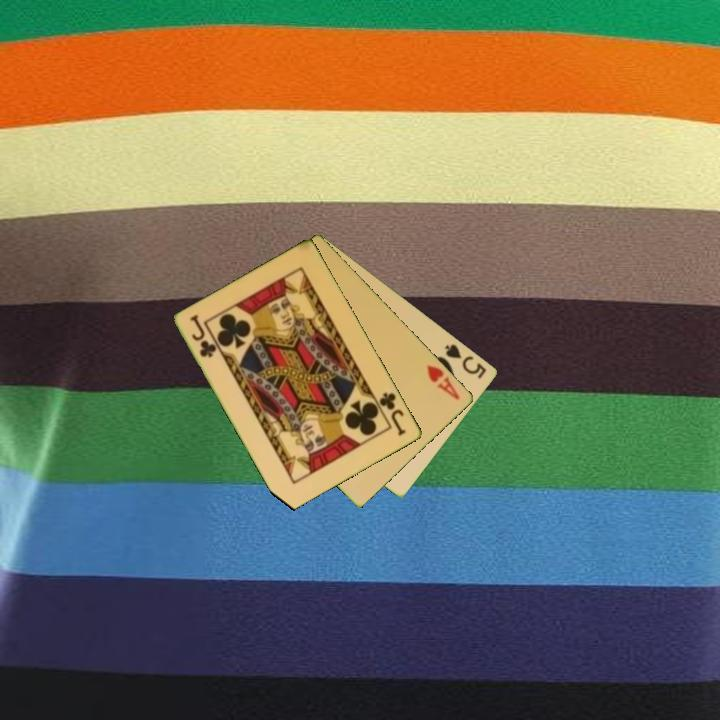5s: (441, 340, 490, 382)
Ah: (423, 361, 463, 403)
Jc: (376, 389, 409, 439), (187, 311, 219, 361)
